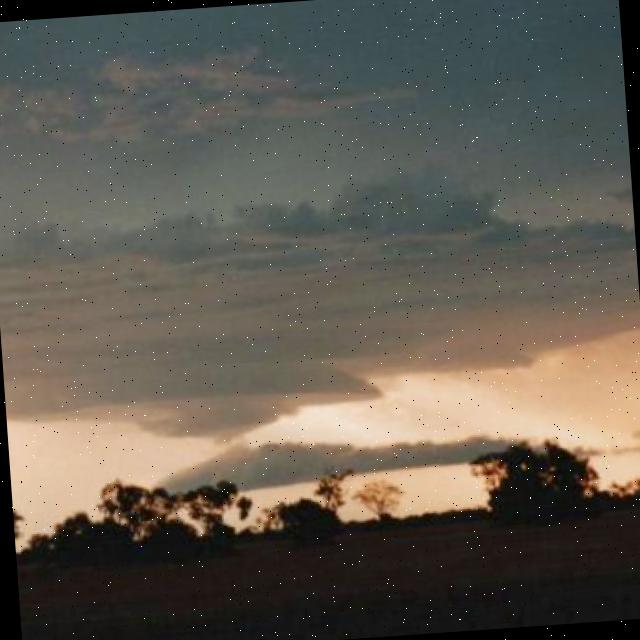St: (1, 163, 640, 466)
